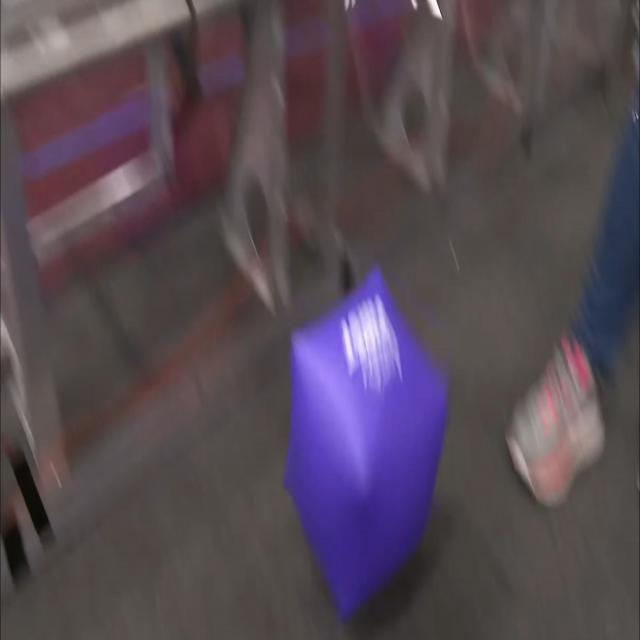frc_cube: (283, 270, 447, 610)
